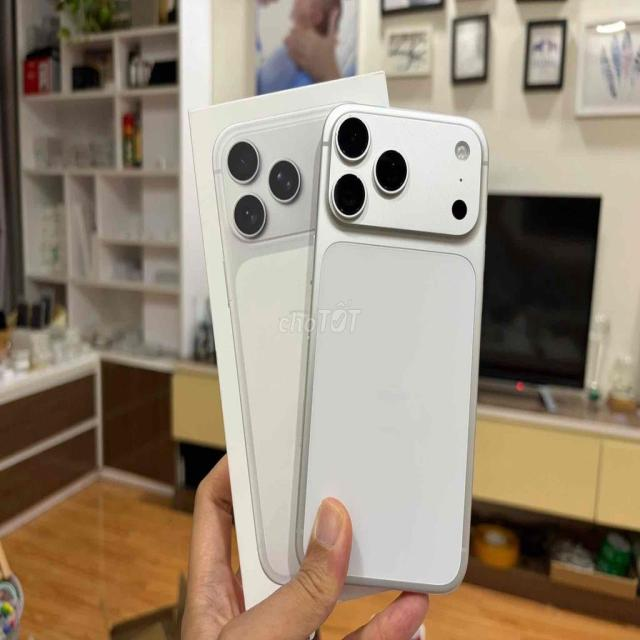gen_17: (295, 98, 487, 590)
